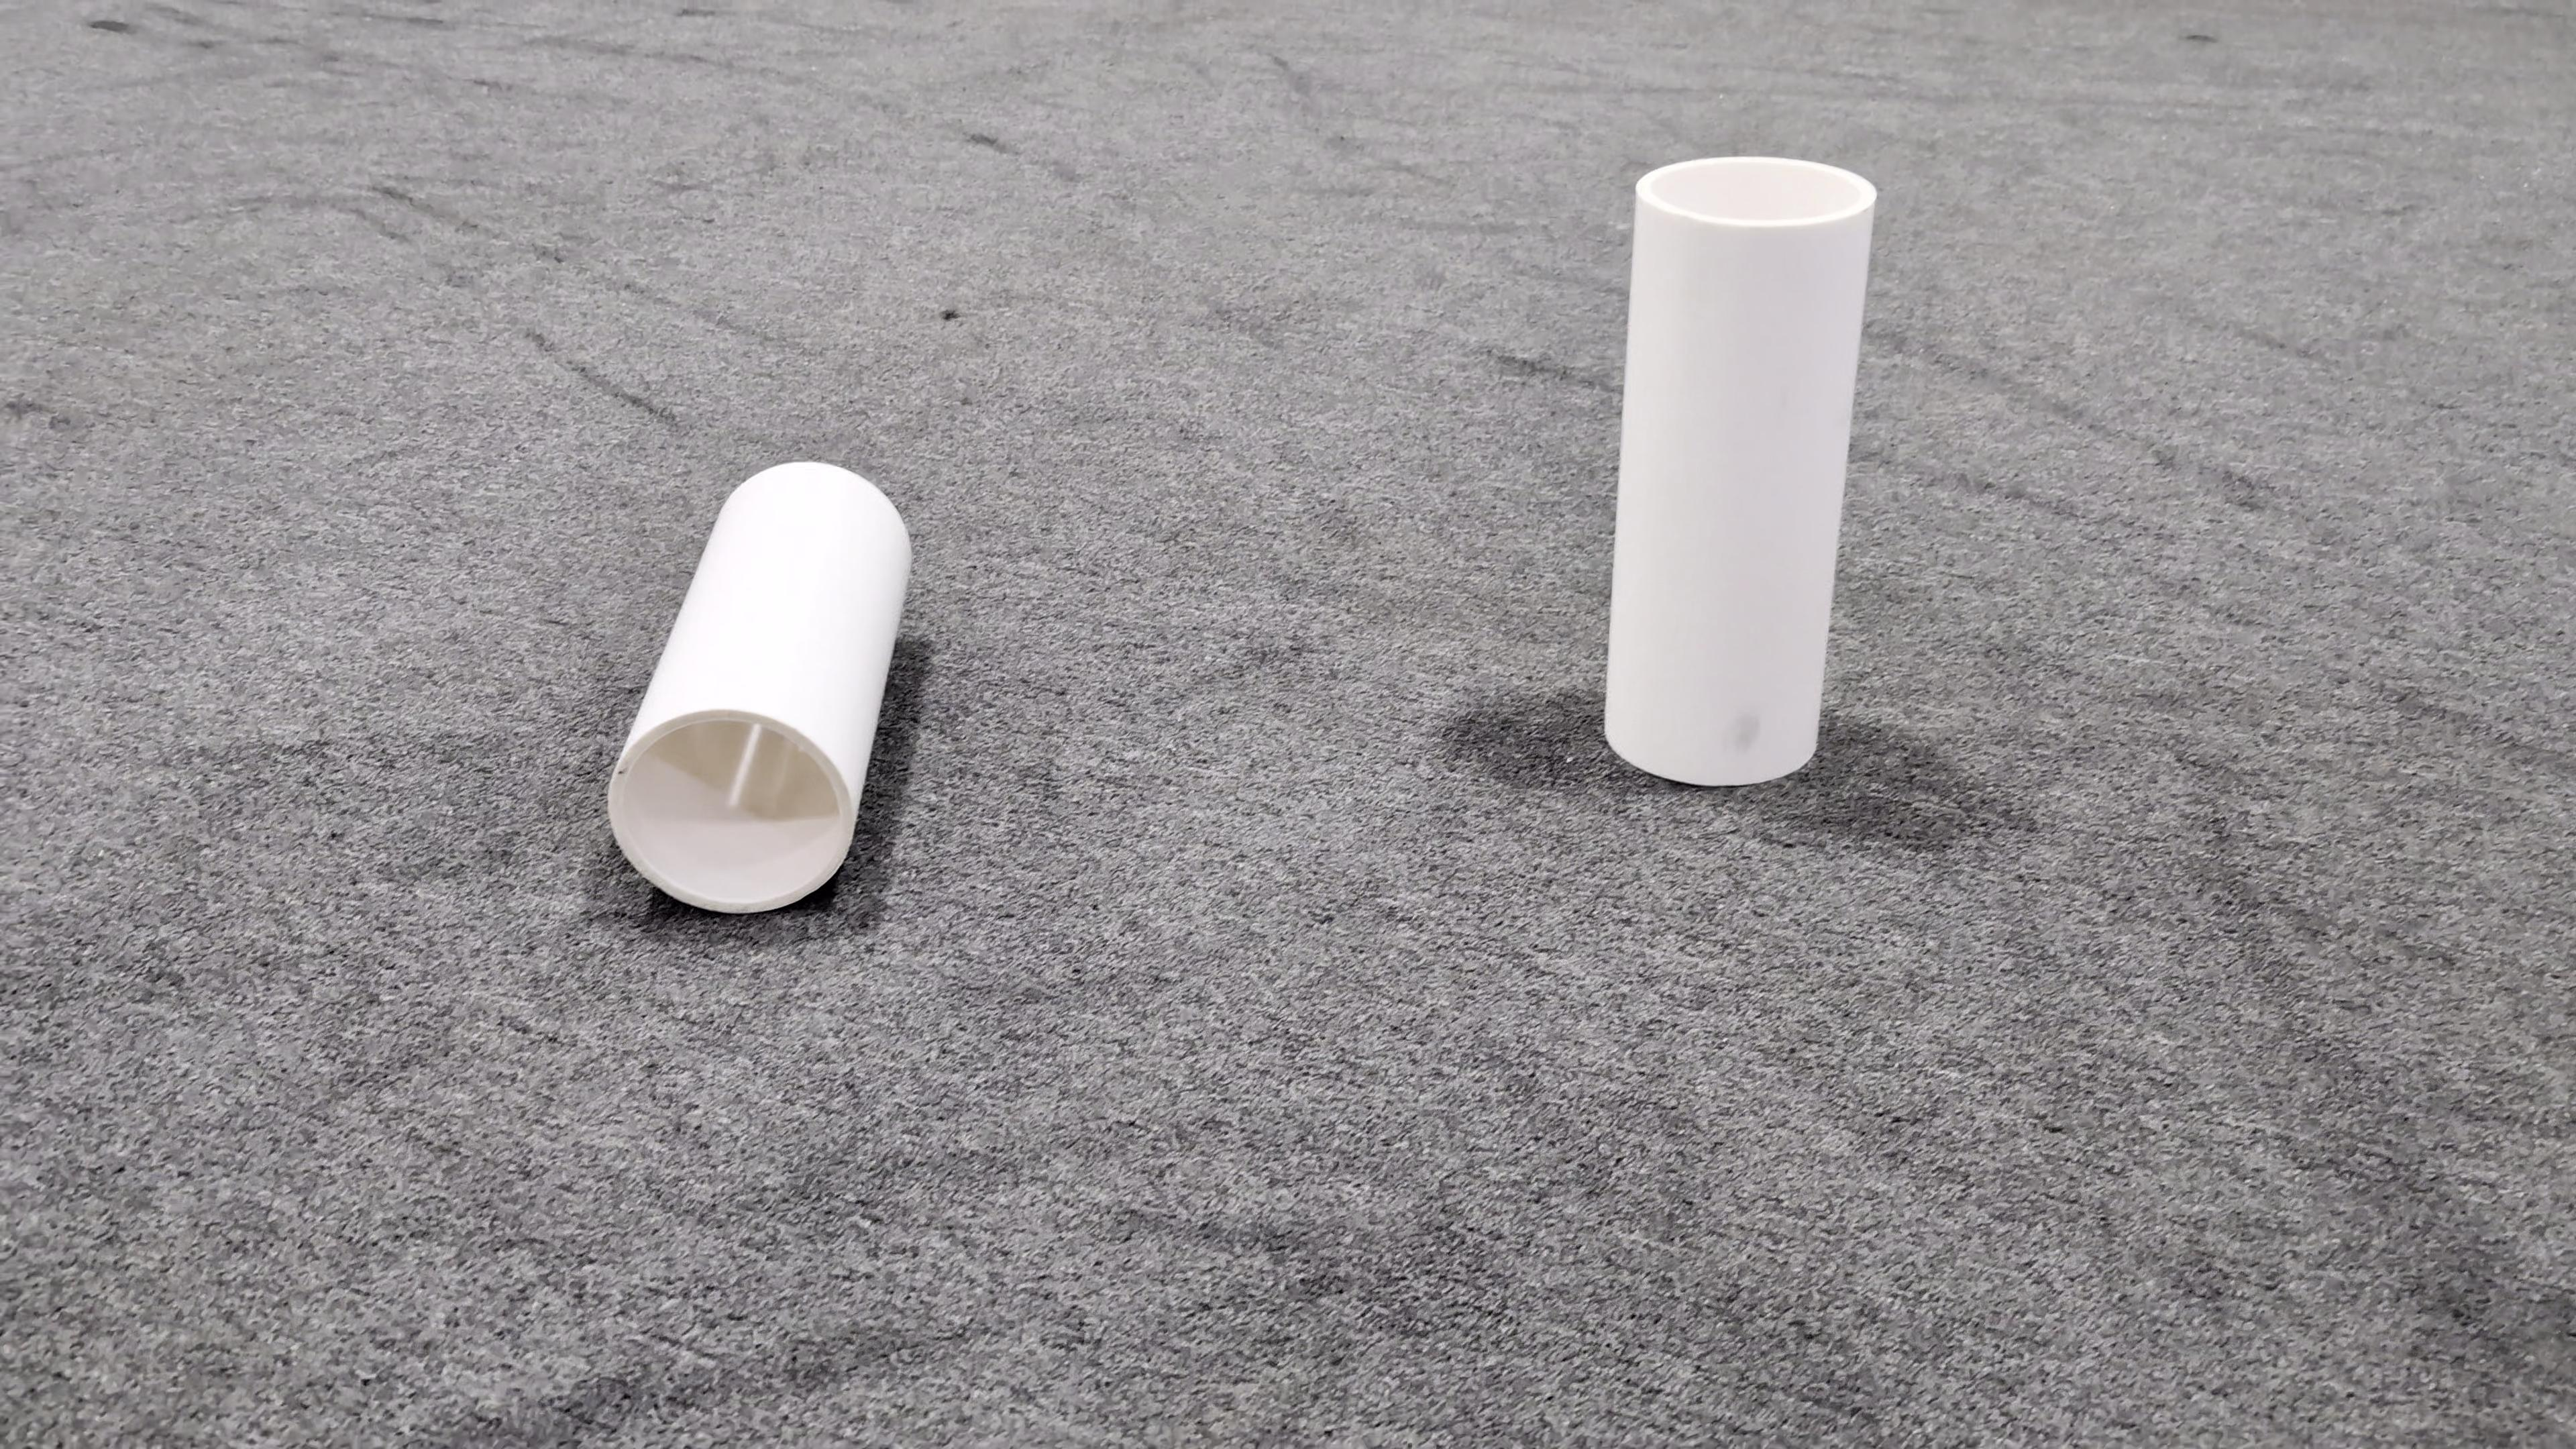coral: (1596, 154, 1879, 786), (605, 460, 915, 915)
